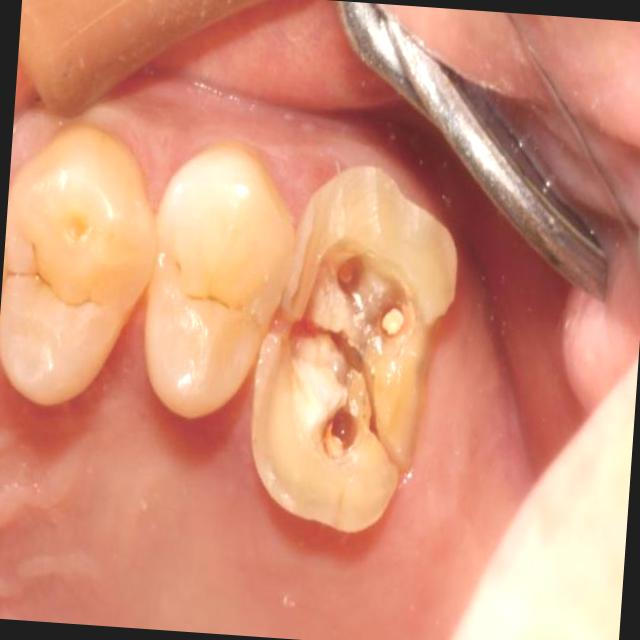caries: (246, 155, 467, 537)
